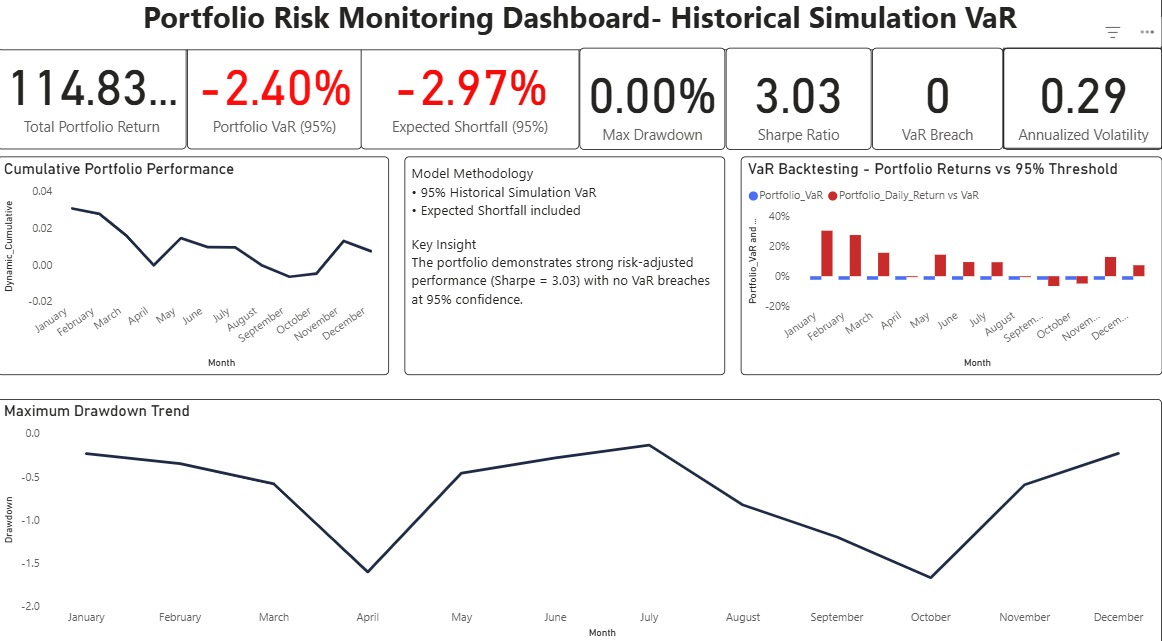

The page's visual inventory and layout, read from the dashboard file:
{"tool":"powerbi","page":{"name":"Page 1","canvas":[1280,720],"ordinal":0},"visuals":[{"type":"card","fields":{"Values":["Sum(risk_dashboard_data.Portfolio_Return)"]},"box":[0,48,208,128],"z":0},{"type":"card","fields":{"Values":["risk_dashboard_data.Portfolio_VaR"]},"box":[208,48,192,128],"z":1000},{"type":"card","fields":{"Values":["risk_dashboard_data.Expected_Shortfall (95)"]},"box":[400,48,240,128],"z":2000},{"type":"clusteredColumnChart","title":"VaR Backtesting - Portfolio Returns vs 95% Threshold","fields":{"Category":["risk_dashboard_data.Date.Variation.Date Hierarchy.Month","risk_dashboard_data.Date.Variation.Date Hierarchy.Day"],"Y":["risk_dashboard_data.Portfolio_VaR","Sum(risk_dashboard_data.Portfolio_Return)"]},"box":[816,183.9,464,240],"z":3000},{"type":"lineChart","title":"Maximum Drawdown Trend","fields":{"Category":["risk_dashboard_data.Date.Variation.Date Hierarchy.Month","risk_dashboard_data.Date.Variation.Date Hierarchy.Day"],"Y":["Sum(risk_dashboard_data.Drawdown)"]},"box":[0,450.1,1280.3,270.3],"z":4000},{"type":"textbox","box":[0,0,1280.3,67.2],"z":5000},{"type":"lineChart","title":"Cumulative Portfolio Performance","fields":{"Category":["risk_dashboard_data.Date.Variation.Date Hierarchy.Month"],"Y":["Assets_Table.Dynamic_Cumulative"]},"box":[0,183.4,430.3,240],"z":6000},{"type":"textbox","box":[447.1,183.7,352,240],"z":7000},{"type":"card","fields":{"Values":["risk_dashboard_data.Max_Drawdown"]},"box":[640,64,160,112],"z":8000},{"type":"card","fields":{"Values":["risk_dashboard_data.Sharpe Ratio"]},"box":[800,64,160,112],"z":9000},{"type":"card","fields":{"Values":["risk_dashboard_data.VaR_Breach"]},"box":[960,64,144,112],"z":10000},{"type":"card","fields":{"Values":["risk_dashboard_data.Annualized Volatility"]},"box":[1104,64,176,112],"z":11000}]}

Visuals, with their boxes in screenshot pixels (x1, y1, x2, y2), scaled from the page's 1280x720 canvas onto the 1162x641 screenshot:
card - Sum(risk_dashboard_data.Portfolio_Return): 0:43:189:157
card - risk_dashboard_data.Portfolio_VaR: 189:43:363:157
card - risk_dashboard_data.Expected_Shortfall (95): 363:43:581:157
"VaR Backtesting - Portfolio Returns vs 95% Threshold" clusteredColumnChart: 741:164:1161:377
"Maximum Drawdown Trend" lineChart: 0:401:1161:640
textbox: 0:0:1161:60
"Cumulative Portfolio Performance" lineChart: 0:163:391:377
textbox: 406:164:725:377
card - risk_dashboard_data.Max_Drawdown: 581:57:726:157
card - risk_dashboard_data.Sharpe Ratio: 726:57:872:157
card - risk_dashboard_data.VaR_Breach: 872:57:1002:157
card - risk_dashboard_data.Annualized Volatility: 1002:57:1161:157
